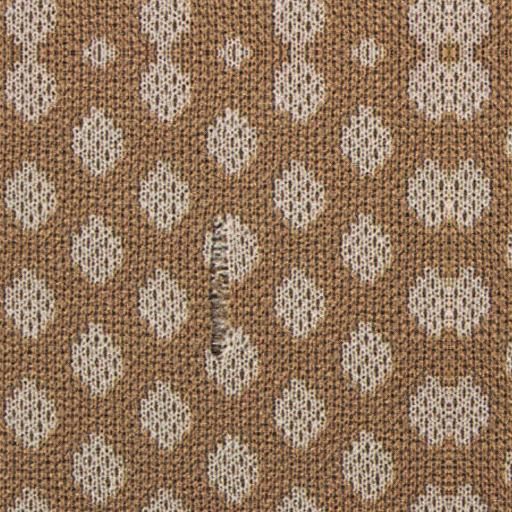slub: (201, 214, 245, 360)
